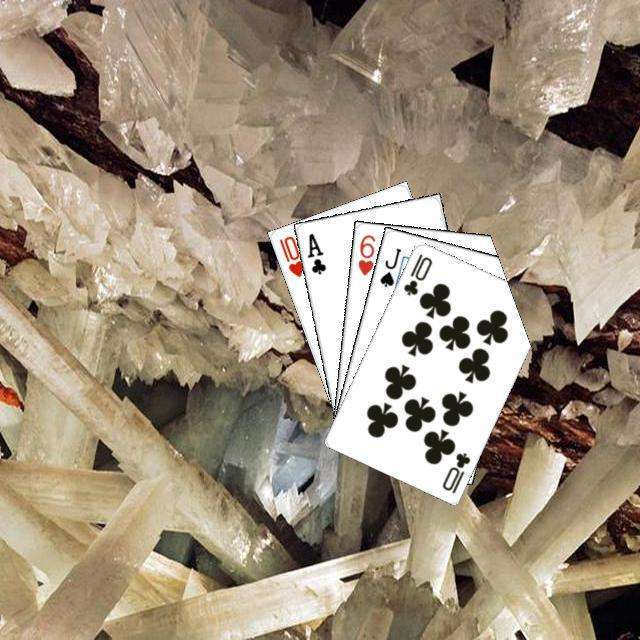10c: (398, 249, 434, 297), (437, 447, 472, 495)
10h: (274, 231, 305, 279)
6h: (353, 230, 377, 277)
Ac: (302, 228, 328, 276)
Js: (375, 243, 403, 289)
